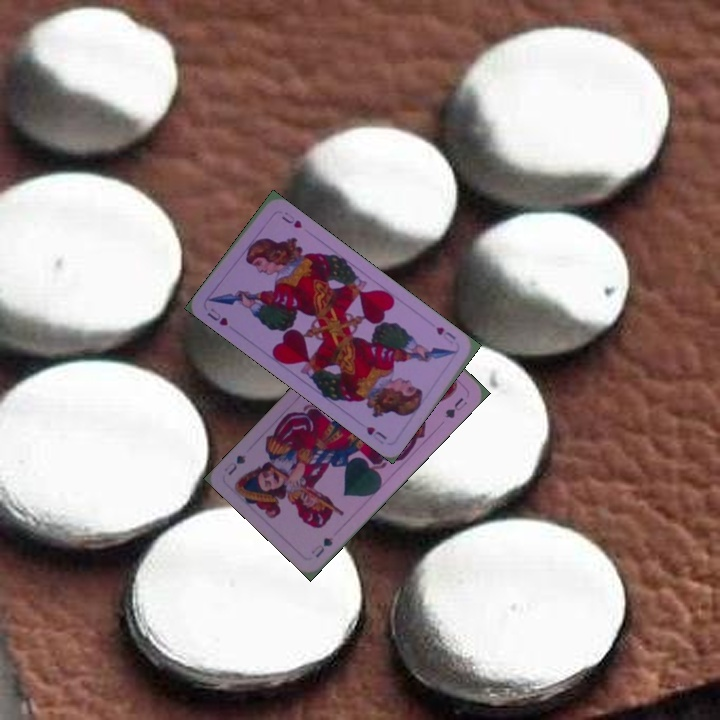GU: (307, 533, 335, 560)
HU: (203, 304, 231, 328), (432, 323, 458, 347)
